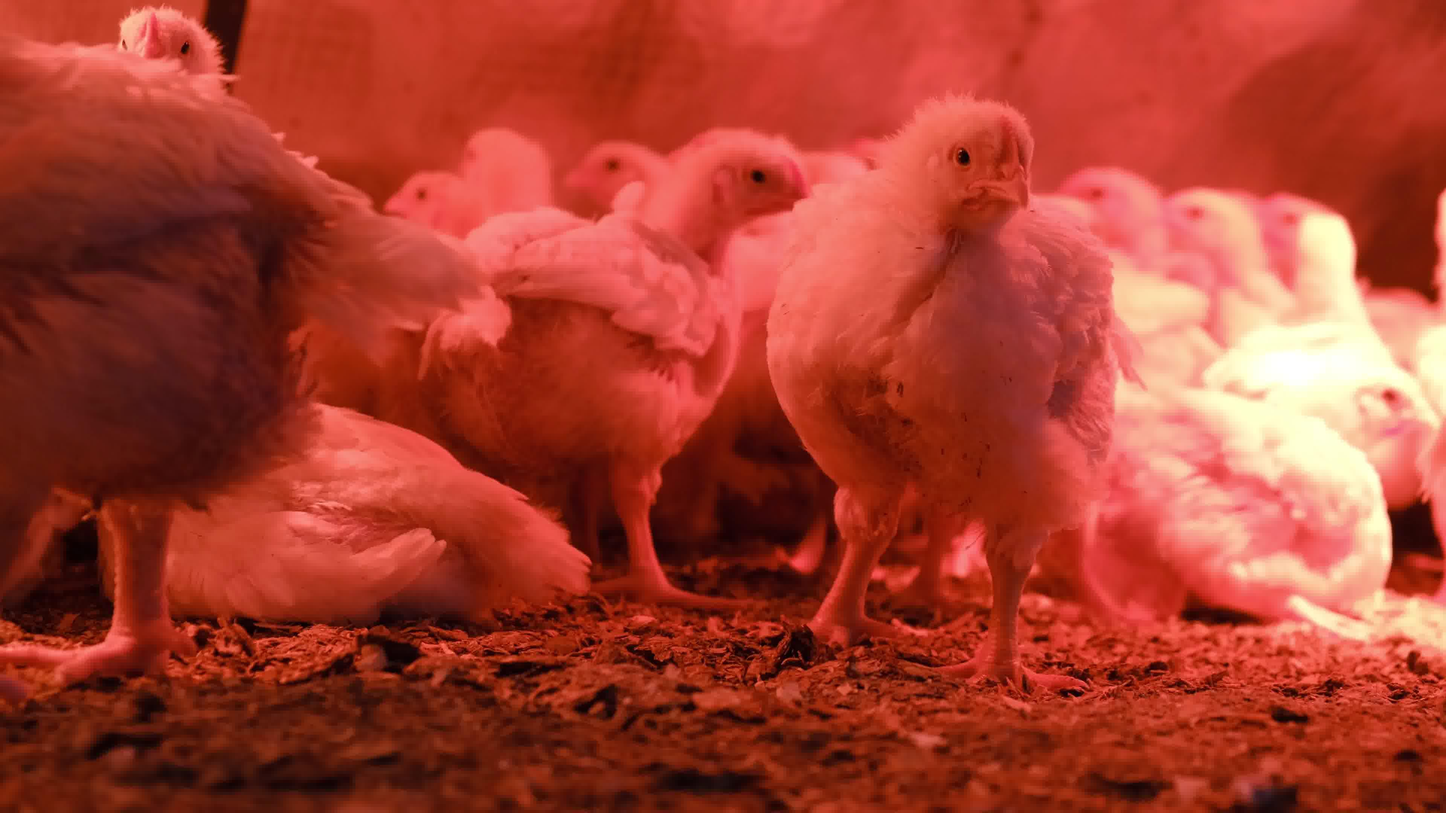AbNormal: (100, 378, 612, 642), (1100, 339, 1393, 657)
Normal: (6, 13, 363, 685), (787, 60, 1139, 674), (446, 119, 830, 604), (1252, 188, 1446, 550), (1100, 152, 1282, 408), (358, 119, 601, 279), (548, 87, 721, 286), (1032, 117, 1179, 288)
